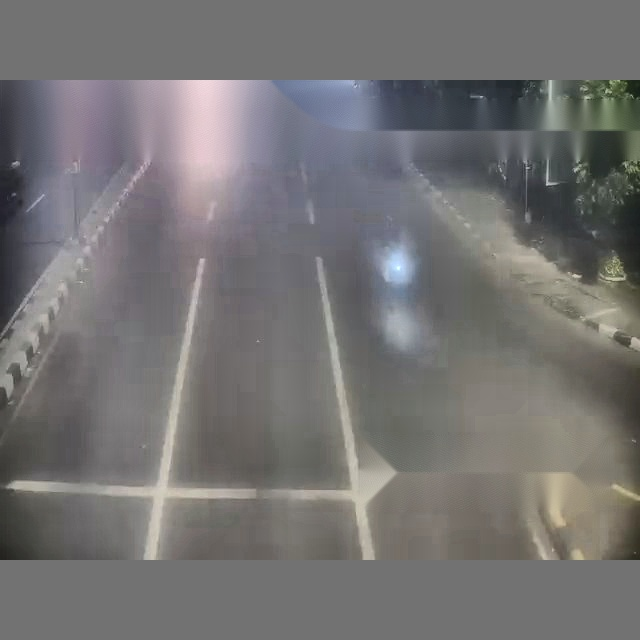Motor: (381, 245, 418, 351)
